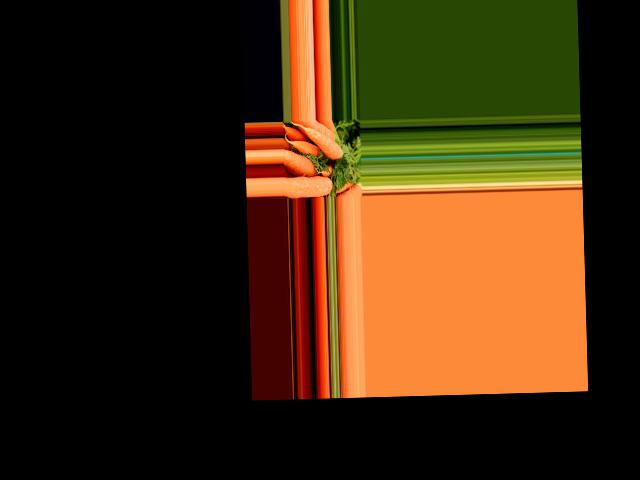carrot: (284, 172, 334, 198)
